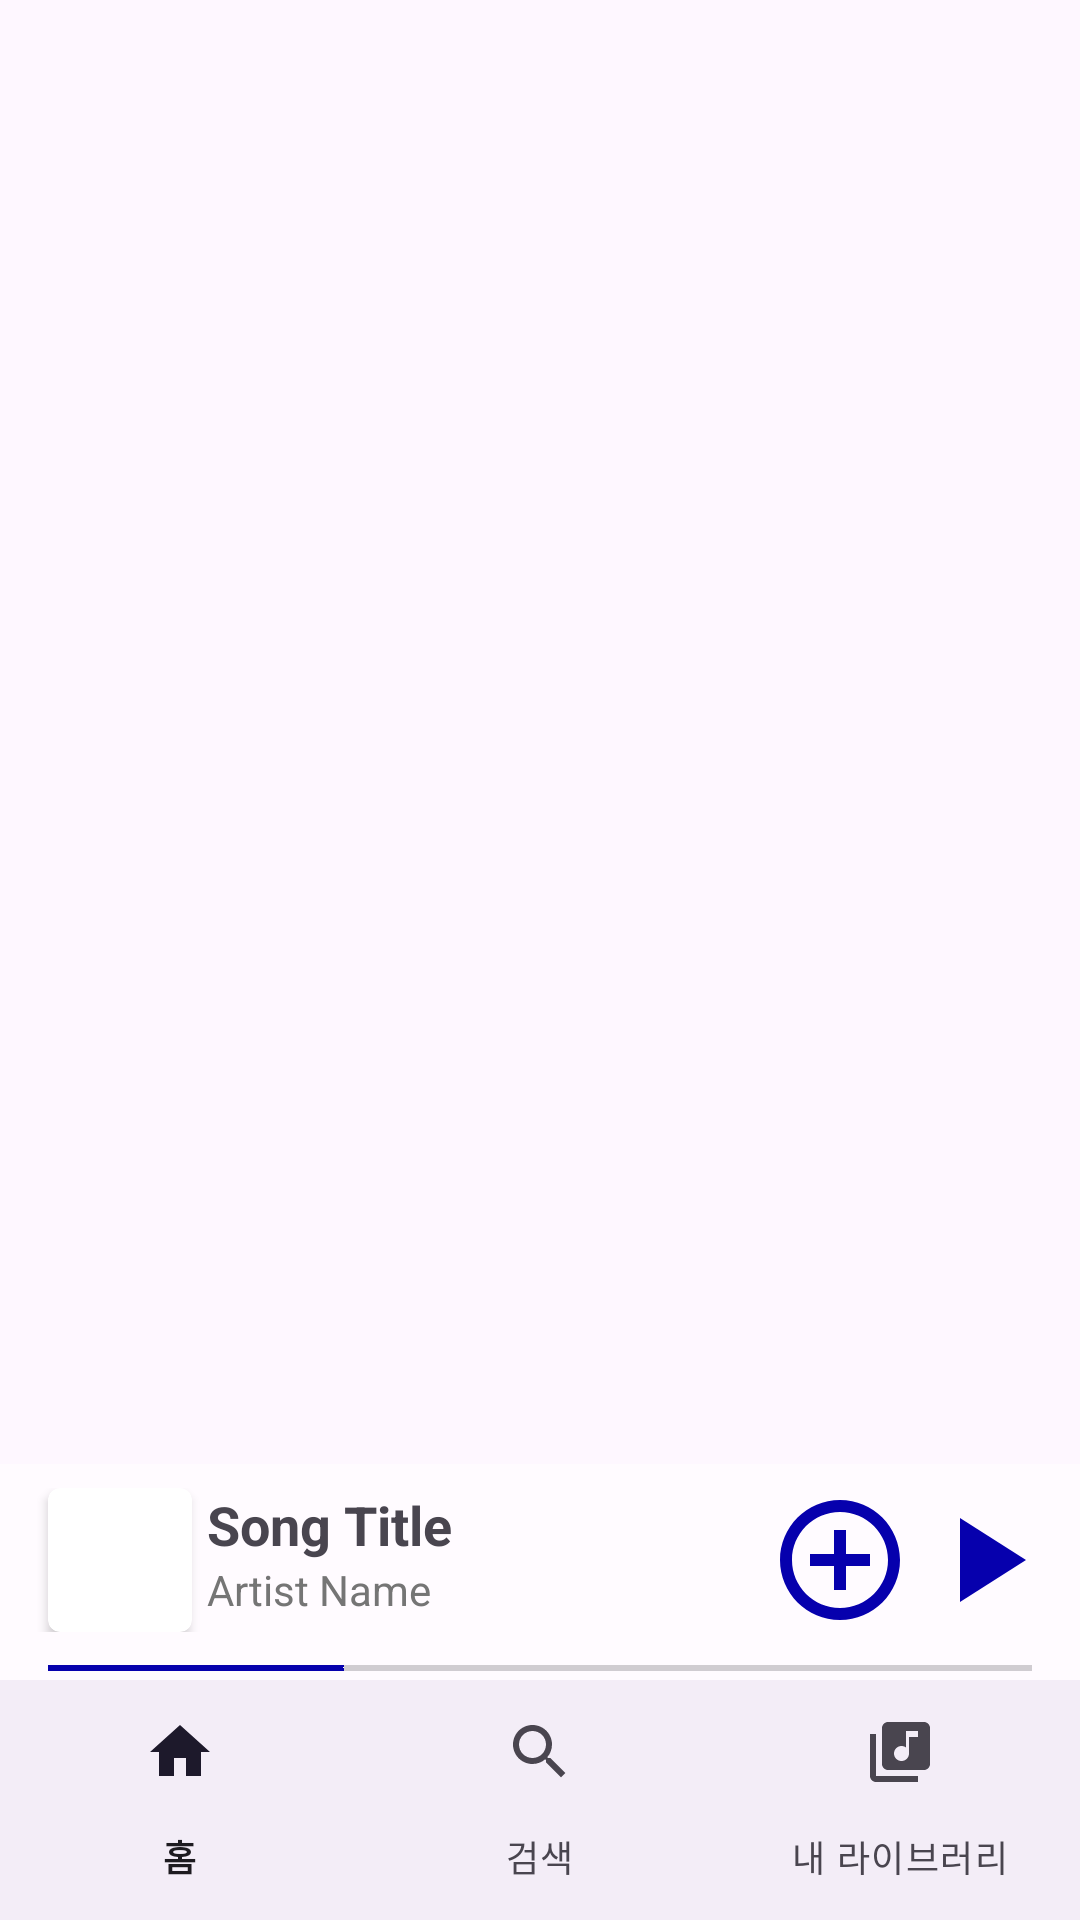

Icons on this 1080px x 1920px Android screen, each with the point to tap as point (x, y):
Play music: point (993, 1560)
Plus music: point (840, 1560)
